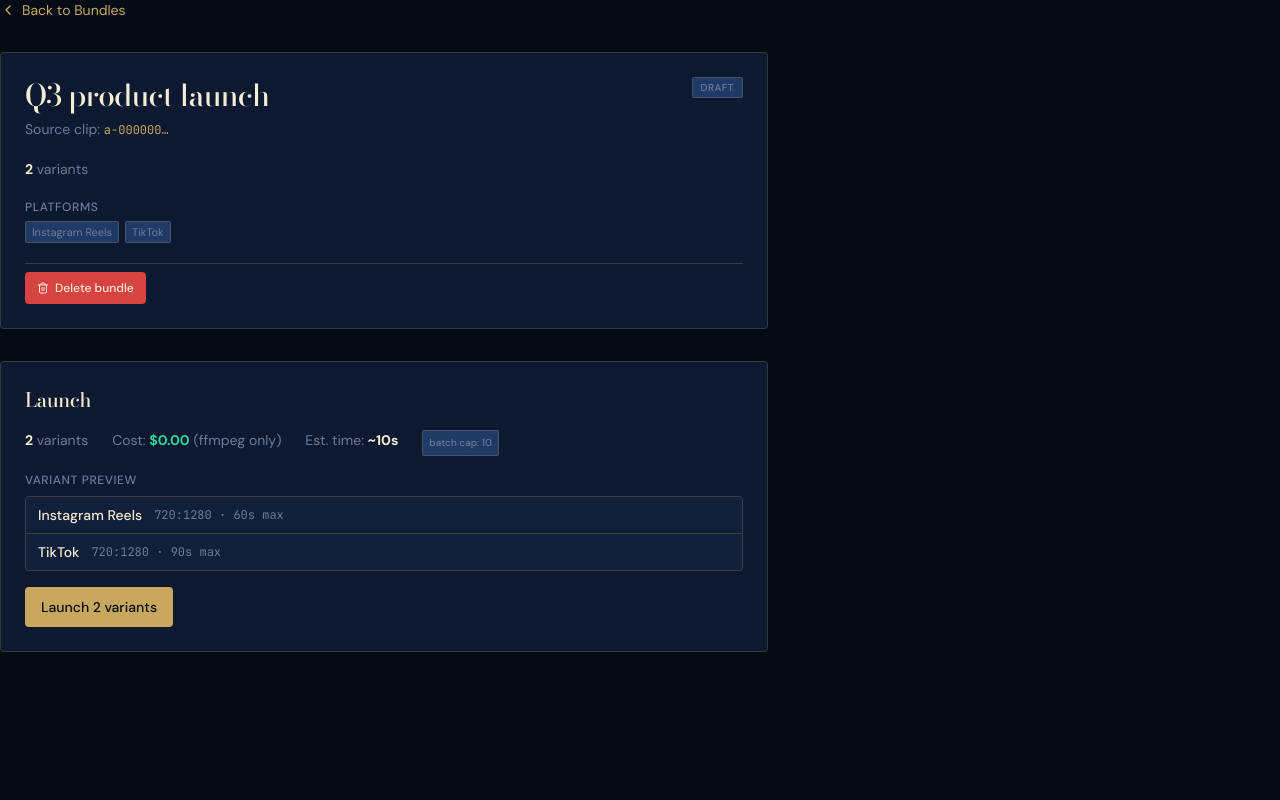
BundleDetailRoute — DRAFT › closes launch modal on cancel
Click the button with test id "launch-btn" at (99, 607), box [25,587,173,627]
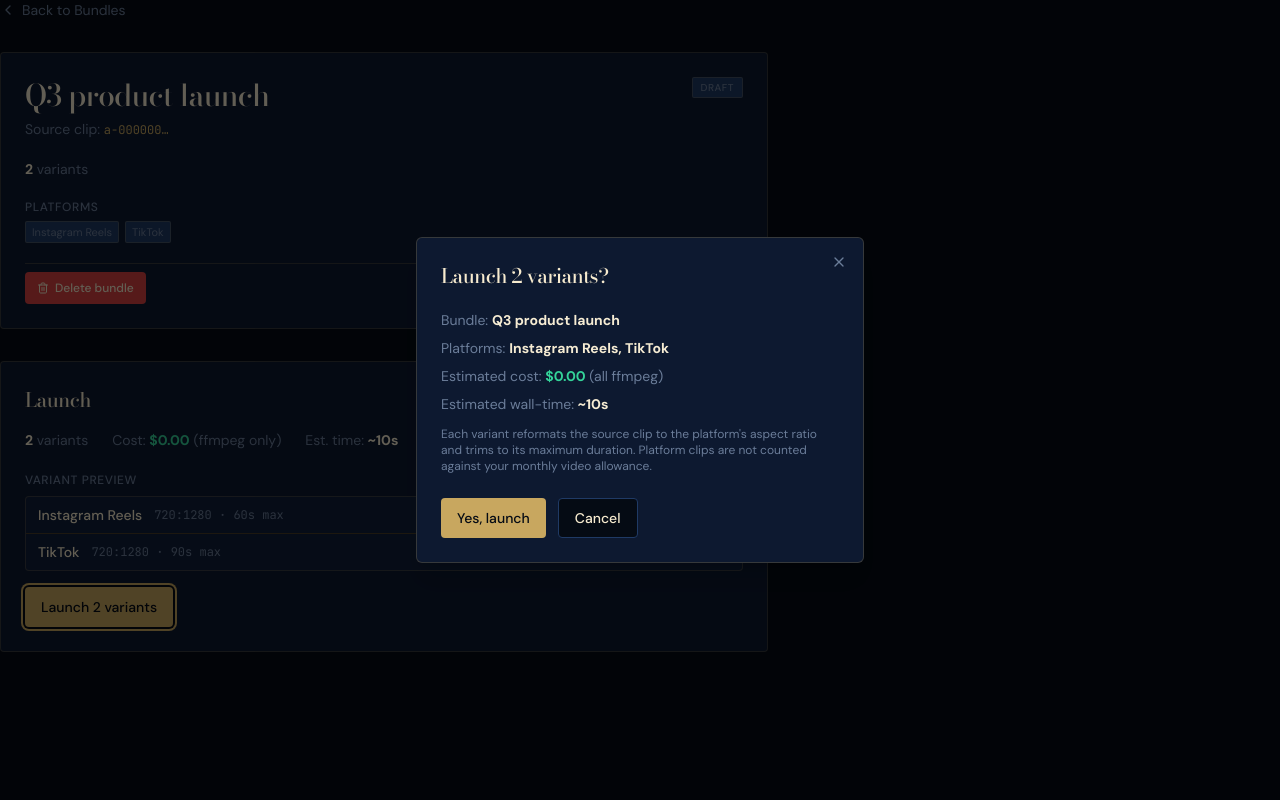
Expected: the dialog with test id "launch-modal" is shown, [416,237,864,563]
Click the button with test id "launch-modal-cancel" at (598, 518), box [558,498,638,538]
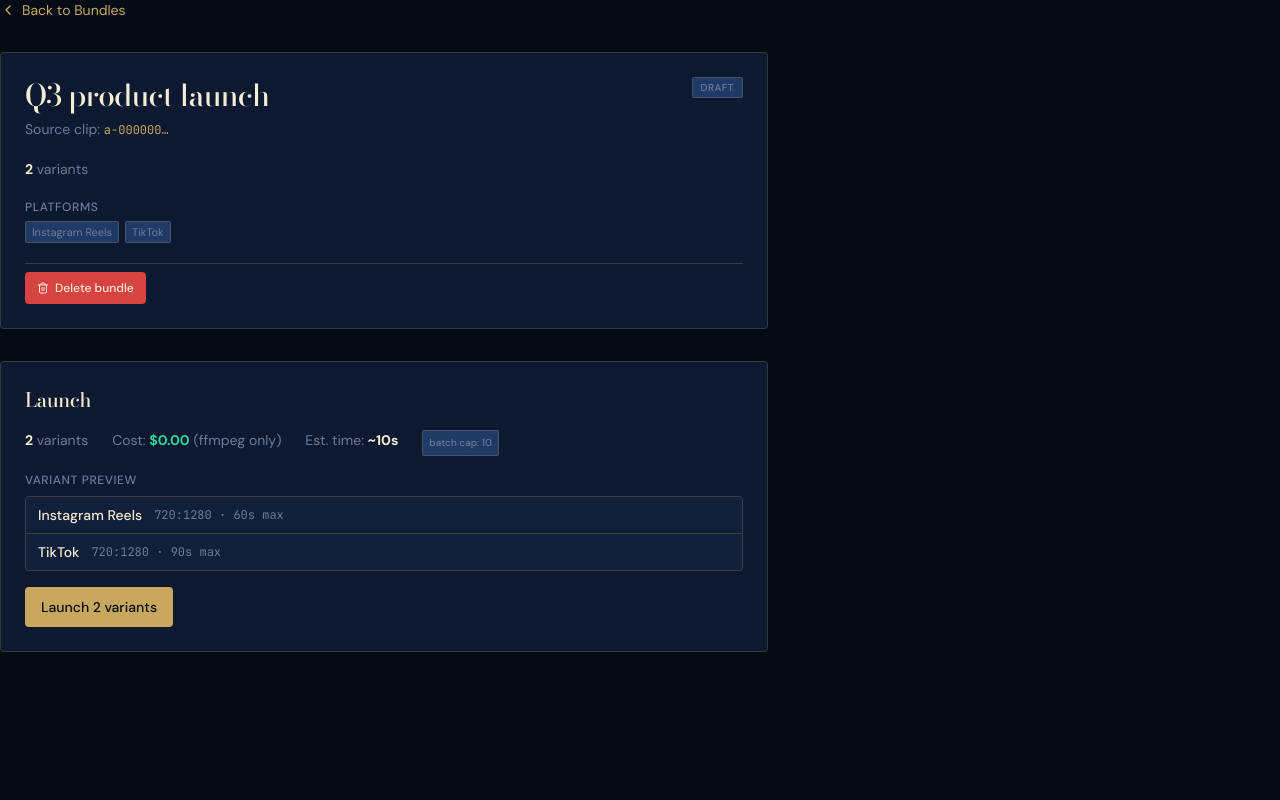
Expected: the dialog with test id "launch-modal" is gone
